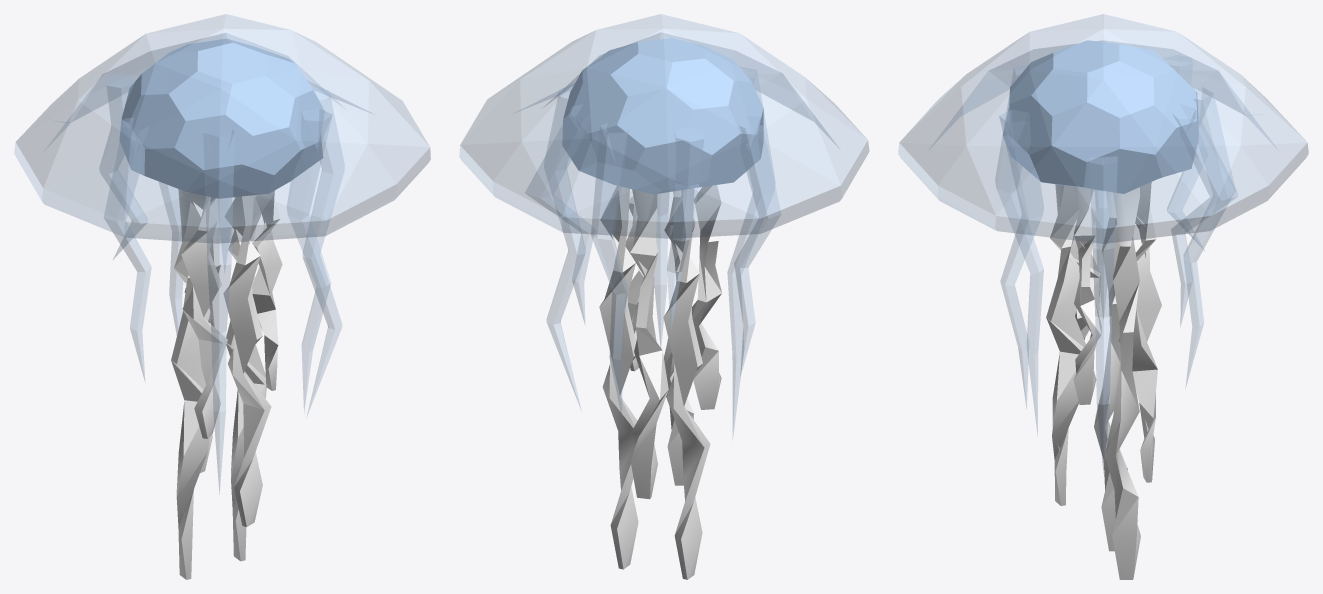
The model's file is jellyfish.gltf.
3 views of the same model, side by side, from view 1: azimuth 30°, elevation 25°; view 2: azimuth 150°, elevation 25°; view 3: azimuth 270°, elevation 25° (orthographic).
Parts seen in each view (by area): view 1: Cone.7-Mat.1 (×2), Cone.7-Mat.2, Cube.3, Cube, Cube.2, Cube.4, Cube.5; view 2: Cone.7-Mat.1 (×2), Cone.7-Mat.2, Cube, Cube.5, Cube.1, Cube.2, Cube.3, Cube.4; view 3: Cone.7-Mat.1 (×2), Cone.7-Mat.2, Cube.5, Cube.3, Cube.1, Cube, Cube.4, Cube.2.
Boxes of the visible parts, x1=… form: Cone.7-Mat.1 (×2): x1=14, y1=14, x2=430, y2=494; Cone.7-Mat.2: x1=119, y1=38, x2=324, y2=198; Cube.3: x1=223, y1=195, x2=271, y2=526; Cube: x1=171, y1=189, x2=210, y2=579; Cube.2: x1=181, y1=191, x2=227, y2=438; Cube.4: x1=252, y1=190, x2=282, y2=390; Cube.5: x1=226, y1=197, x2=266, y2=561; Cone.7-Mat.1 (×2): x1=459, y1=14, x2=869, y2=435; Cone.7-Mat.2: x1=562, y1=38, x2=763, y2=194; Cube: x1=663, y1=188, x2=710, y2=579; Cube.5: x1=599, y1=186, x2=638, y2=569; Cube.1: x1=630, y1=189, x2=668, y2=499; Cube.2: x1=692, y1=185, x2=721, y2=409; Cube.3: x1=664, y1=190, x2=695, y2=485; Cube.4: x1=625, y1=196, x2=643, y2=371; Cone.7-Mat.1 (×2): x1=898, y1=14, x2=1308, y2=472; Cone.7-Mat.2: x1=1003, y1=40, x2=1198, y2=193; Cube.5: x1=1104, y1=187, x2=1140, y2=579; Cube.3: x1=1046, y1=184, x2=1085, y2=505; Cube.1: x1=1118, y1=182, x2=1161, y2=482; Cube: x1=1094, y1=192, x2=1127, y2=551; Cube.4: x1=1073, y1=187, x2=1101, y2=404; Cube.2: x1=1070, y1=206, x2=1100, y2=339.
Bounding box in the file's own units: 217 × 313 × 217.
